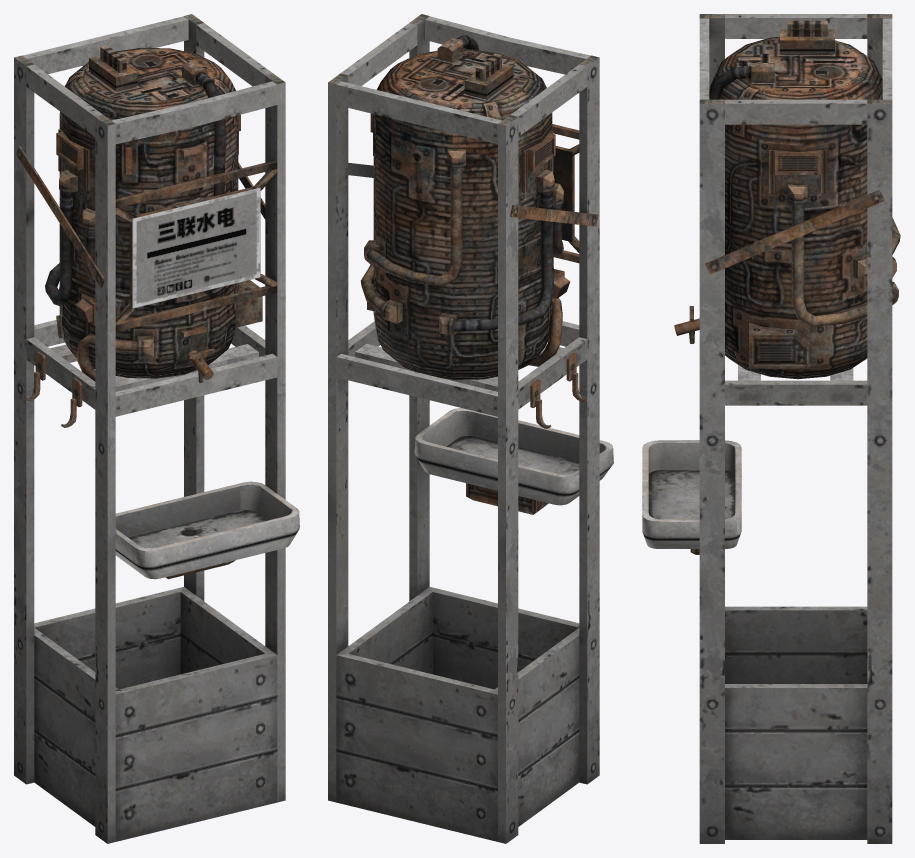
File: water_dispenser.dae
3 views of the same model, side by side, from view 1: azimuth 30°, elevation 25°; view 2: azimuth 150°, elevation 25°; view 3: azimuth 270°, elevation 25° (orthographic). The views are drawn at different scales.
Parts seen in each view (by area): view 1: Mesh; view 2: Mesh; view 3: Mesh.
Boxes of the visible parts, x1,y1,x2,y2 form: Mesh: (14,14,299,843); Mesh: (328,14,613,843); Mesh: (642,14,900,843).
Bounding box in the file's own units: 0.6767 × 2.43 × 0.7461.
